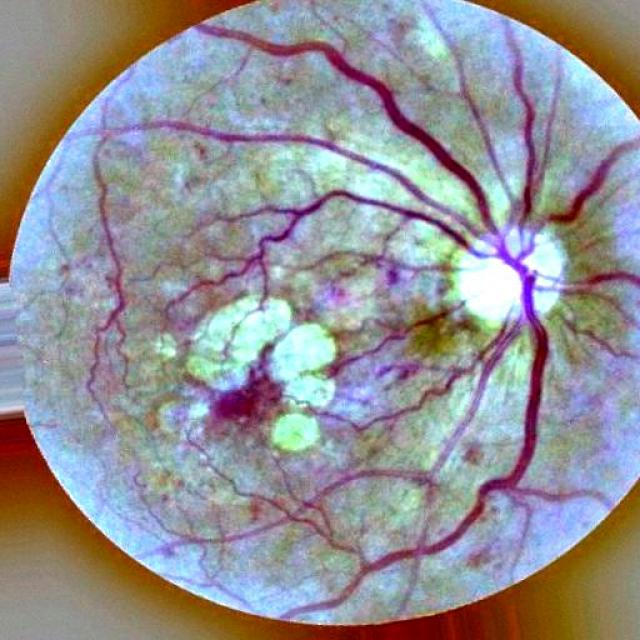Macula: (210, 344, 282, 425)
Nerves: (86, 21, 639, 619), (326, 301, 468, 380)
Optic Disk: (452, 224, 565, 329)
